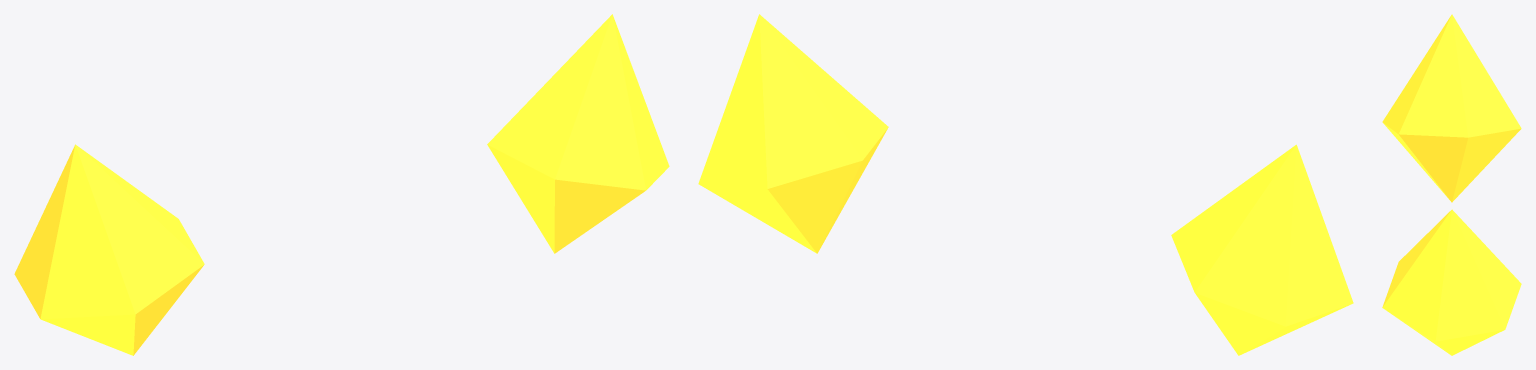
The model's file is CandleLight_SconcesTorch_01.fbx.
The picture shows the model from 3 angles, left to right: view 1: azimuth 30°, elevation 25°; view 2: azimuth 150°, elevation 25°; view 3: azimuth 270°, elevation 25°; orthographic projection. The views are drawn at different scales.
Visible parts, largest first — view 1: CandleLight_SconcesTorch_01; view 2: CandleLight_SconcesTorch_01; view 3: CandleLight_SconcesTorch_01.
Part boxes in pixels (x1,y1,x2,y2): CandleLight_SconcesTorch_01: (14, 14, 669, 355); CandleLight_SconcesTorch_01: (698, 14, 1353, 355); CandleLight_SconcesTorch_01: (1382, 14, 1521, 355).
Size of the model in its own units: 160 by 54.89 by 41.23.
